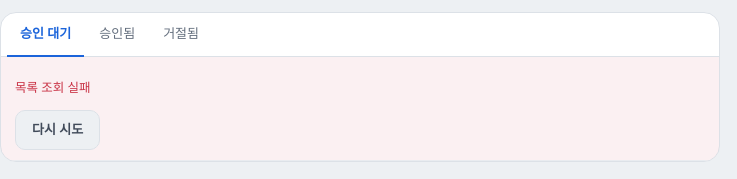
Test: UserApprovalList › 조회 실패를 알리고 다시 시도하면 목록을 보여준다
Expected: the message shows "목록 조회 실패", [15,79,90,96]
Click the button "다시 시도": (58, 130) [15,110,100,150]
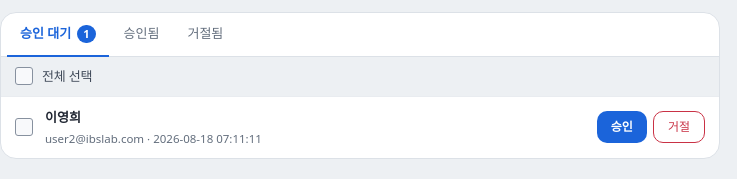
Result: the text "이영희" is shown at [45,108,81,126]
Result: the message "목록 조회 실패 다시 시도" is gone
